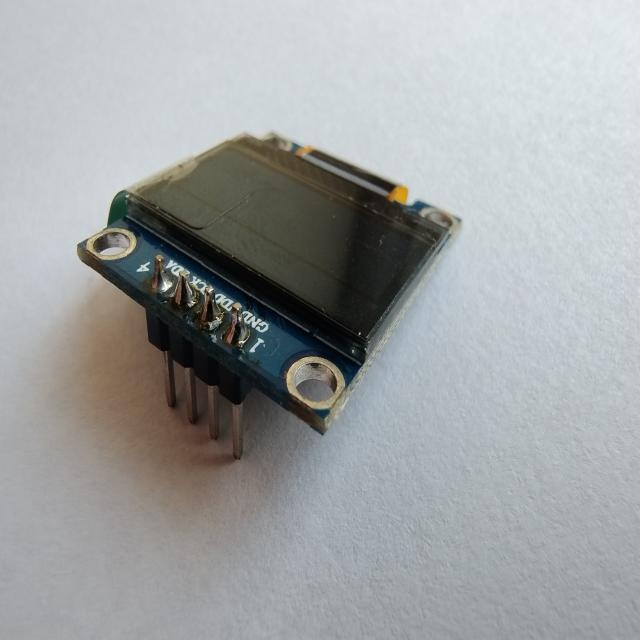oled: (63, 126, 497, 490)
